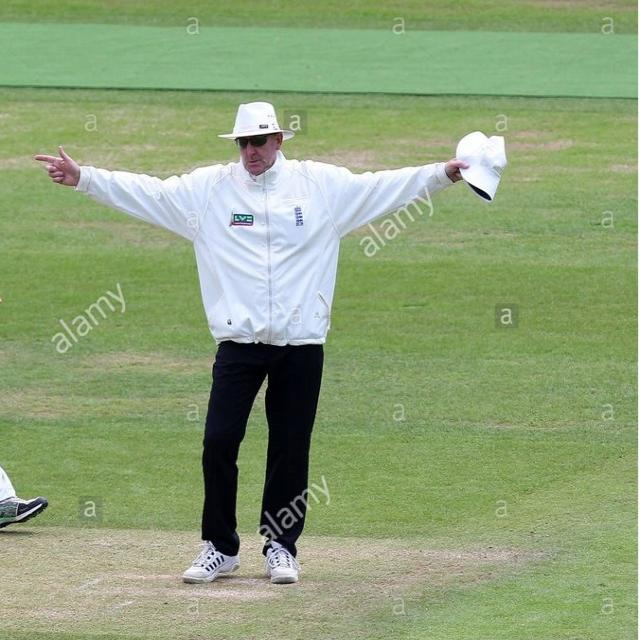Wide: (21, 78, 516, 590)
